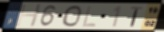1: (111, 6, 122, 28)
6: (39, 5, 57, 28)
H: (14, 4, 43, 28)
L: (81, 4, 98, 28)
O: (61, 5, 83, 28)
T: (129, 6, 144, 27)
